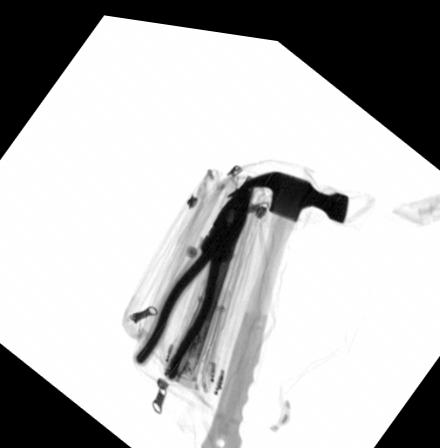Hammer: (199, 161, 350, 448)
Pliers: (132, 167, 253, 376)
